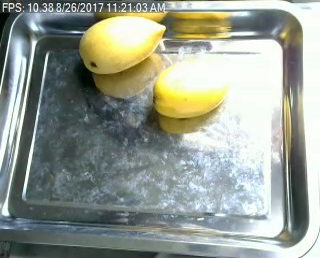Mango: (78, 15, 164, 73), (150, 59, 229, 120)
